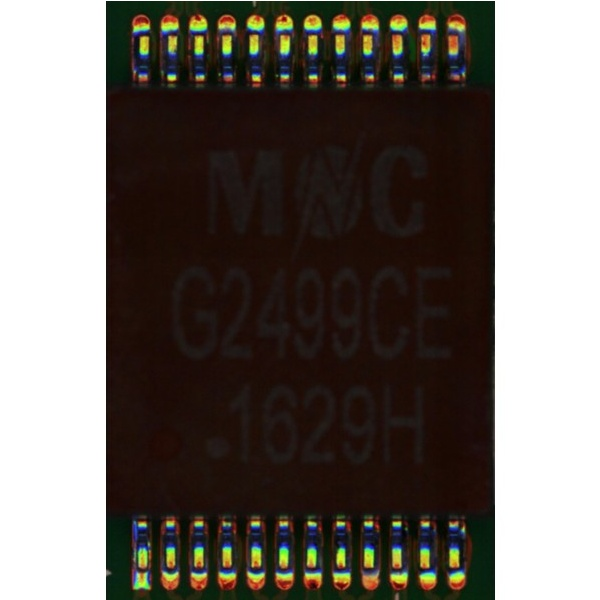Bad_podu: (137, 564, 145, 579)
Bad_qiaojiao: (131, 528, 136, 566), (146, 535, 151, 566)
